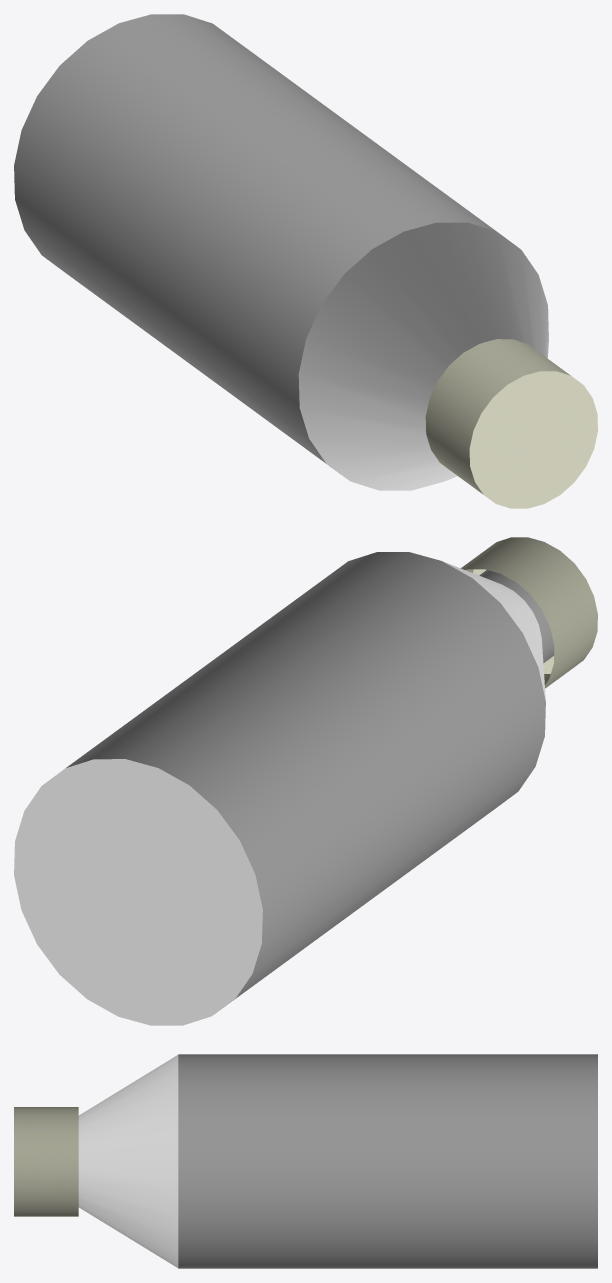
Rendered from model_scale.obj.
3 views of the same model, one above another, from view 1: azimuth 30°, elevation 25°; view 2: azimuth 150°, elevation 25°; view 3: azimuth 270°, elevation 25° (orthographic). The views are drawn at different scales.
Parts seen in each view (by area): view 1: mesh2_mesh2-geometry, mesh1_mesh1-geometry; view 2: mesh2_mesh2-geometry, mesh1_mesh1-geometry; view 3: mesh2_mesh2-geometry, mesh1_mesh1-geometry.
Part boxes in pixels (x1,y1,x2,y2): mesh2_mesh2-geometry: (14, 14, 548, 490); mesh1_mesh1-geometry: (425, 339, 597, 508); mesh2_mesh2-geometry: (14, 552, 554, 1025); mesh1_mesh1-geometry: (461, 537, 597, 688); mesh2_mesh2-geometry: (78, 1054, 597, 1268); mesh1_mesh1-geometry: (14, 1107, 78, 1216).
Size of the model in its own units: 0.0991 by 0.0991 by 0.2716.
